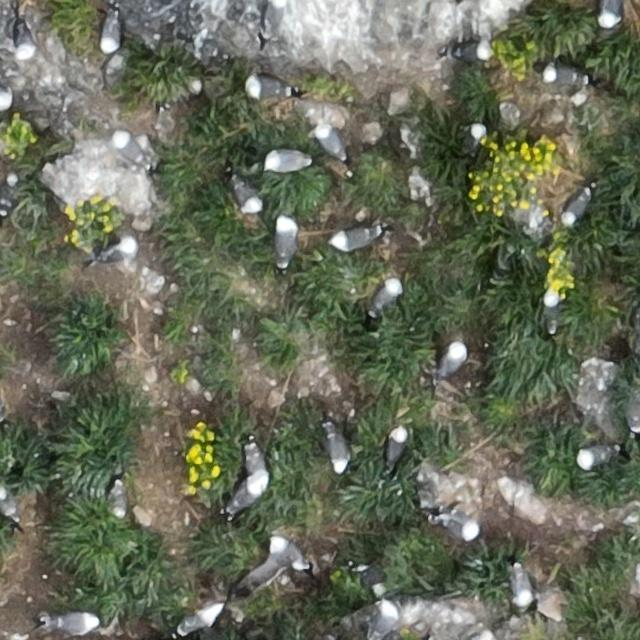umineko: (112, 130, 153, 172), (359, 564, 392, 600), (247, 438, 270, 486), (261, 1, 286, 44), (230, 481, 262, 513), (178, 607, 217, 633), (332, 228, 378, 250), (52, 613, 98, 634), (275, 538, 307, 568), (327, 431, 349, 473), (371, 279, 399, 312), (440, 516, 478, 540), (439, 343, 465, 378), (564, 189, 590, 223), (317, 127, 346, 157), (264, 151, 305, 172), (277, 220, 296, 264), (234, 182, 260, 214), (248, 78, 288, 98), (512, 568, 532, 606), (103, 239, 136, 261), (543, 65, 581, 84), (578, 445, 610, 467), (100, 15, 120, 50), (453, 44, 491, 62), (376, 602, 397, 634), (388, 429, 407, 464), (543, 292, 559, 329), (112, 484, 128, 520), (601, 1, 622, 28), (16, 25, 33, 58), (466, 122, 486, 150), (0, 493, 19, 522), (0, 84, 9, 111)
